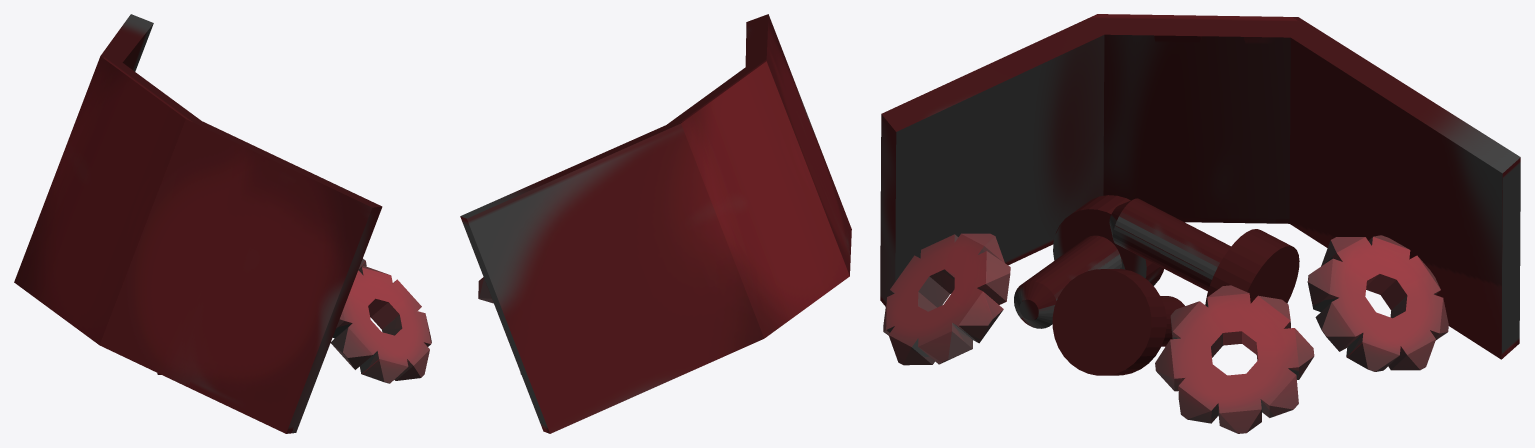
Rendered from Scrap.fbx.
The picture shows the model from 3 angles, left to right: view 1: azimuth 30°, elevation 25°; view 2: azimuth 150°, elevation 25°; view 3: azimuth 270°, elevation 25°; orthographic projection. The views are drawn at different scales.
Parts seen in each view (by area): view 1: Cube, Cylinder.004; view 2: Cube; view 3: Cube, Cylinder.005, Cylinder.001, Cylinder.004, Cylinder, Cylinder.002, Cylinder.003.
Part boxes in pixels (box(x1,y1,x2,y2)): Cube: box(14, 14, 382, 433); Cylinder.004: box(330, 266, 431, 383); Cube: box(460, 14, 851, 433); Cube: box(880, 14, 1520, 359); Cylinder.005: box(1155, 285, 1314, 433); Cylinder.001: box(1307, 235, 1448, 371); Cylinder.004: box(883, 233, 1010, 365); Cylinder: box(1052, 269, 1184, 375); Cylinder.002: box(1109, 198, 1299, 306); Cylinder.003: box(1014, 195, 1163, 328).
Size of the model in its own units: 297 by 244 by 452.
Materials: 3 (3 with a texture image).
